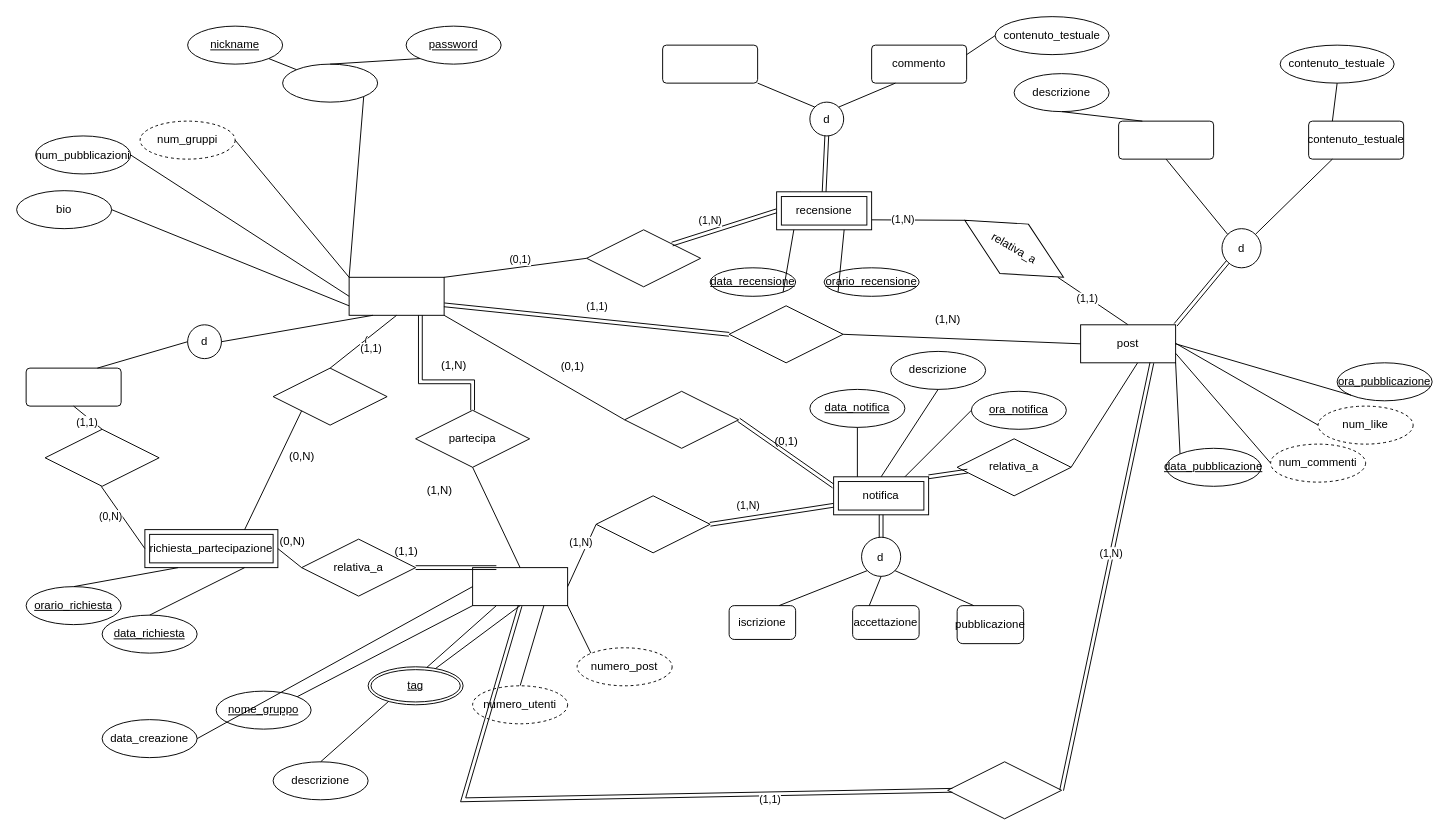
This 1449x836 diagram has some shape labels left out. The centre of each missing label's shape, as x and y in pixels:
"accetta" goes at pixel 101 457.
"creatore" goes at pixel 73 386.
"credenziali" goes at pixel 330 82.
"effettua" goes at pixel 329 396.
"foto" goes at pixel 1166 139.
"gruppo" goes at pixel 520 586.
"invia" goes at pixel 652 524.
"inviata_a" goes at pixel 681 419.
"lascia" goes at pixel 643 258.
"like" goes at pixel 710 63.
"pubblica" goes at pixel 785 334.
"relativo_a" goes at pixel 1004 790.
"utente" goes at pixel 396 295.
